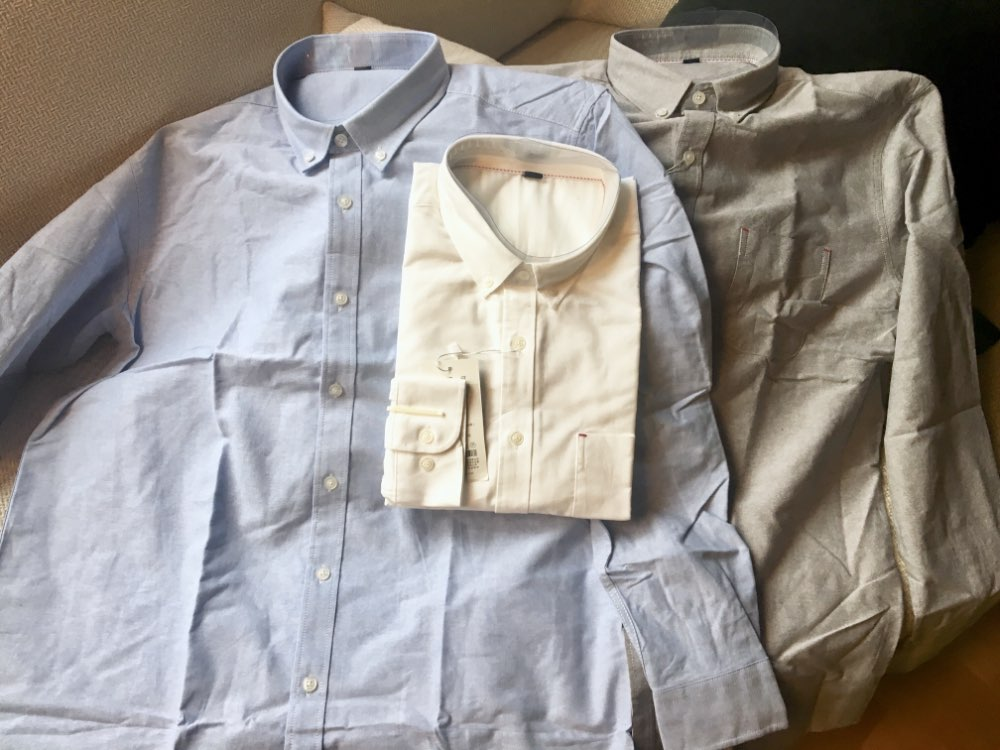shirts: (56, 35, 759, 750), (423, 48, 1000, 694)
